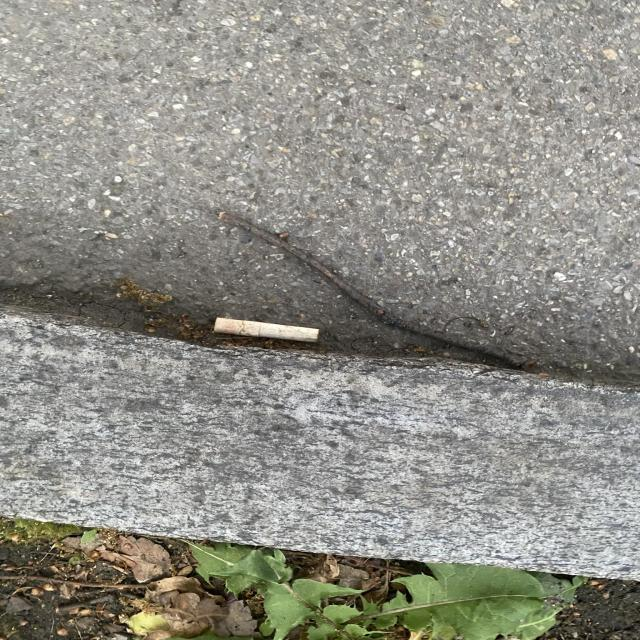other waste: (212, 317, 319, 343)
